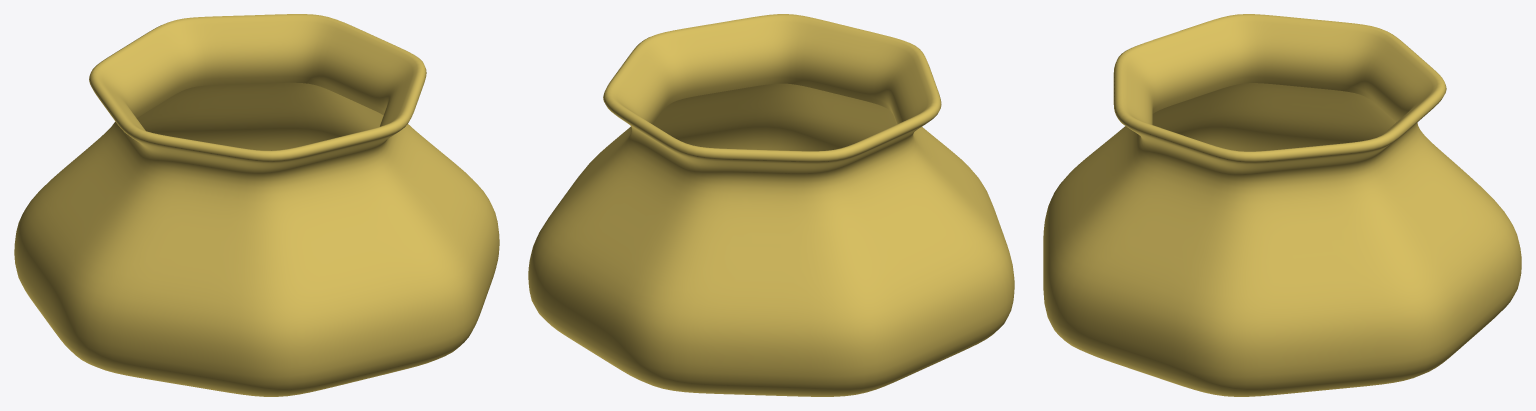
The model's file is pot.glb.
The picture shows the model from 3 angles, left to right: view 1: azimuth 30°, elevation 25°; view 2: azimuth 150°, elevation 25°; view 3: azimuth 270°, elevation 25°; orthographic projection.
Parts seen in each view (by area): view 1: pot-F; view 2: pot-F; view 3: pot-F.
Boxes of the visible parts, x1,y1,x2,y2 form: pot-F: [14, 14, 499, 396]; pot-F: [528, 14, 1014, 396]; pot-F: [1043, 14, 1521, 396].
Size of what is drawn, in the model's own units: 1.03 by 0.5718 by 1.02.
